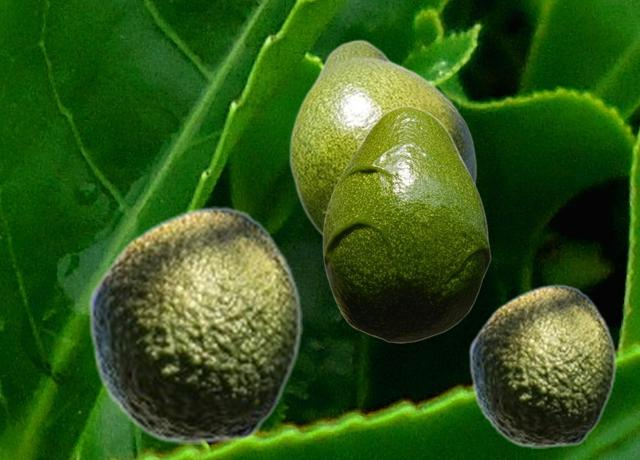avocado: (87, 206, 301, 443), (322, 105, 490, 342), (288, 39, 476, 236), (468, 284, 615, 447)
